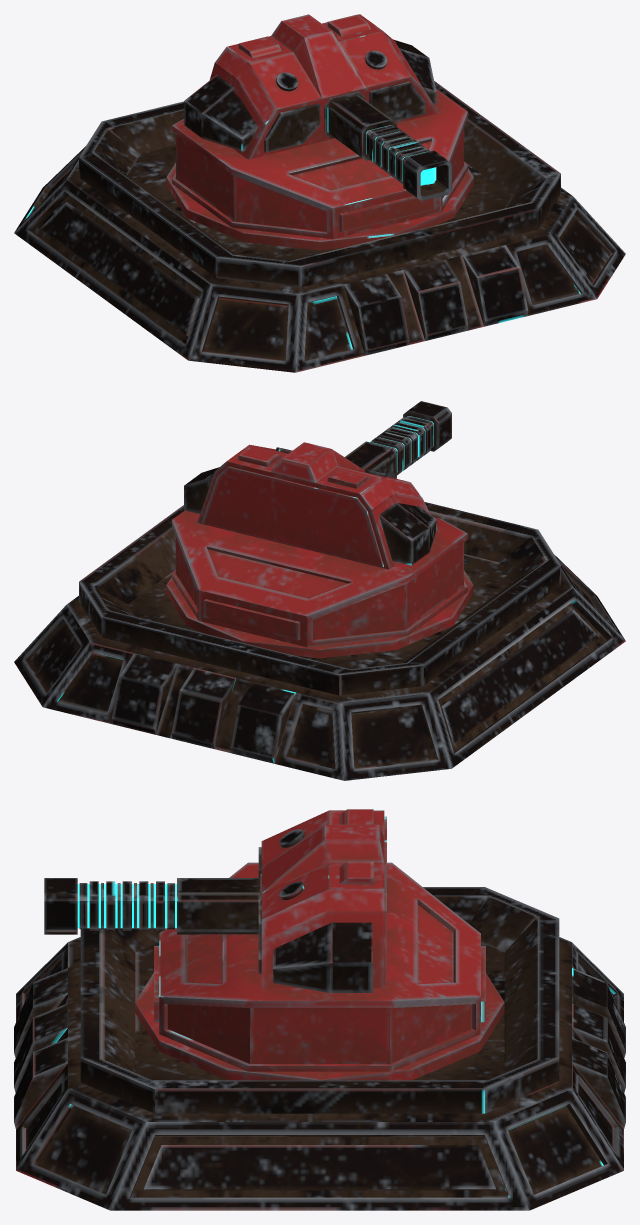
Rendered from uploads_files_2949677_Laser_turret.fbx.
3 views of the same model, one above another, from view 1: azimuth 30°, elevation 25°; view 2: azimuth 150°, elevation 25°; view 3: azimuth 270°, elevation 25° (orthographic). The views are drawn at different scales.
Visible parts, largest first — view 1: Laser_turret; view 2: Laser_turret; view 3: Laser_turret.
Boxes of the visible parts, bbox=[...] form: Laser_turret: bbox=[14, 14, 625, 372]; Laser_turret: bbox=[14, 401, 625, 780]; Laser_turret: bbox=[14, 809, 625, 1210].
Size of the model in its own units: 200 by 90.62 by 201.
